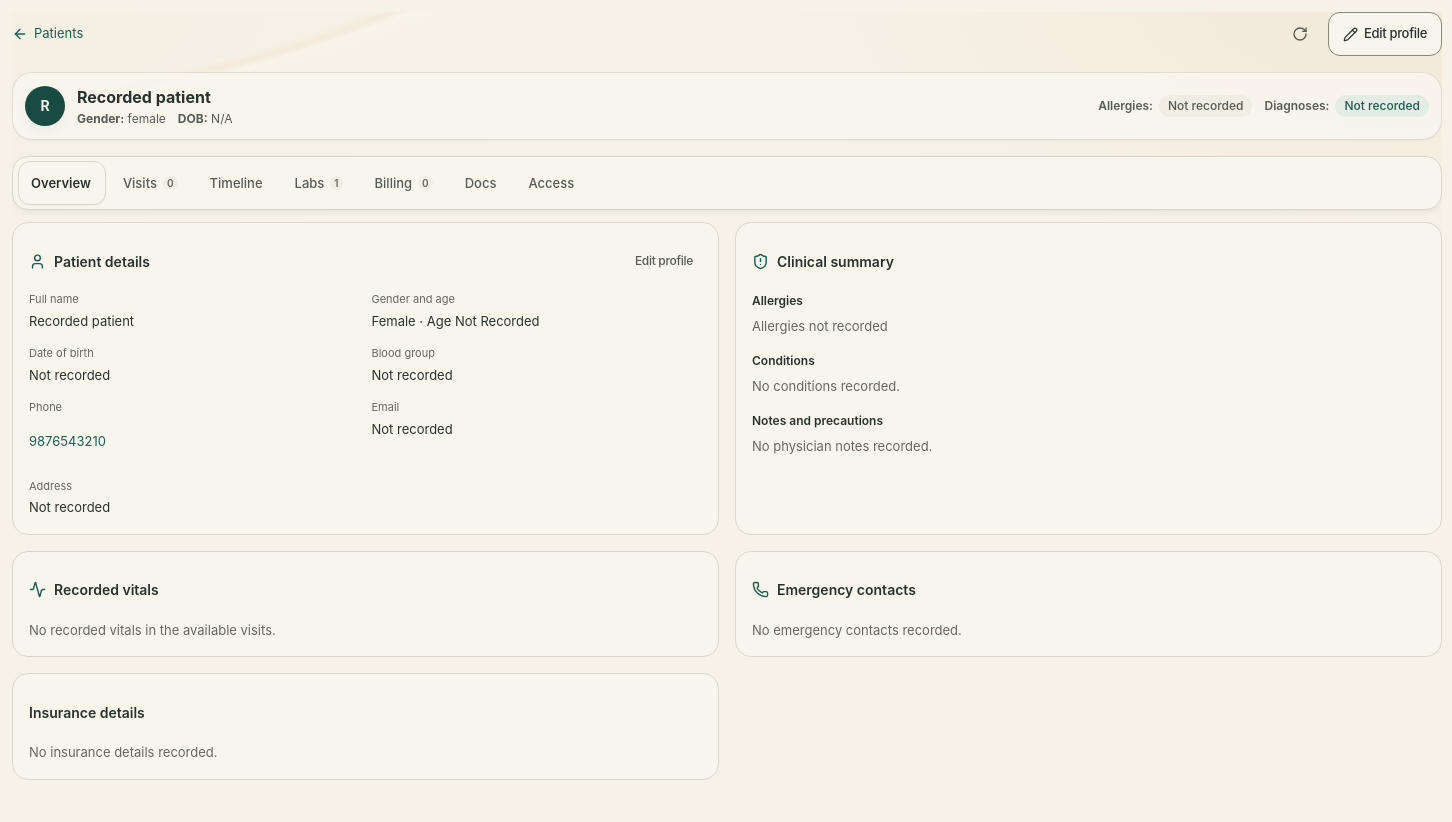
Test: keeps auxiliary records scoped to the selected patient and displays a recorded zero result
The image size is (1452, 822).
Click the tab "Labs 1": (318, 183) [280,161,356,205]
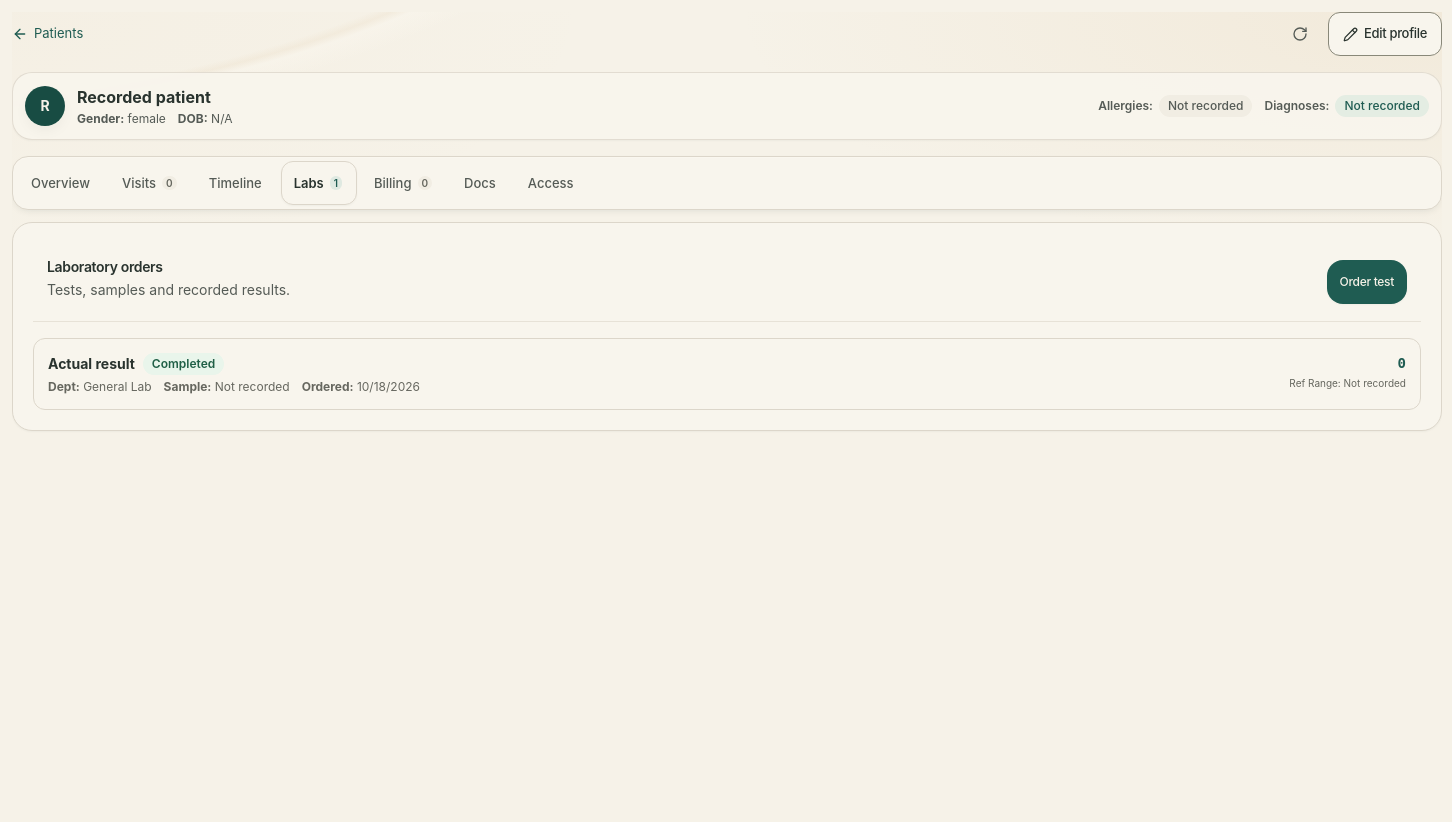
Check: the text "Actual result" is shown, box [48,354,135,374]
Check: the text "0" in the row of "completed" is shown, box [1398,355,1406,371]
